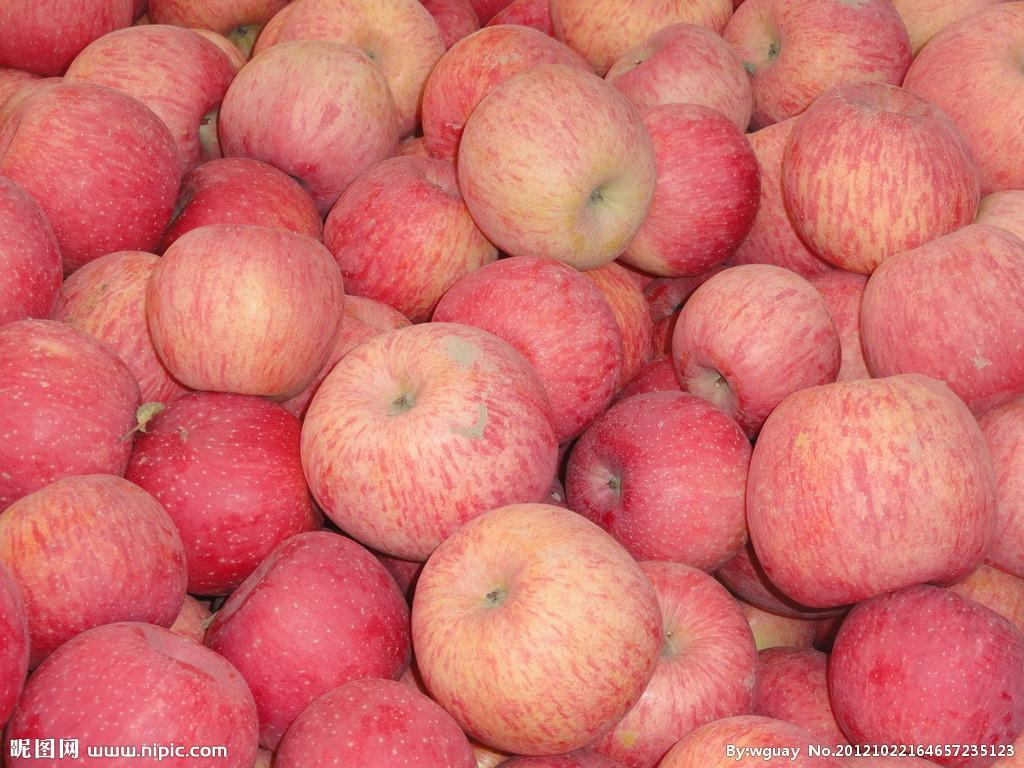apple: (299, 317, 561, 565), (409, 504, 671, 752), (744, 371, 993, 610), (205, 529, 413, 747), (454, 56, 655, 264), (126, 393, 321, 598), (779, 77, 988, 267), (6, 616, 256, 768), (1, 471, 189, 667), (146, 224, 346, 404), (427, 252, 621, 429), (569, 392, 754, 575), (822, 582, 1016, 756), (854, 219, 1020, 411), (1, 82, 179, 259), (670, 261, 846, 430), (604, 97, 762, 279), (213, 37, 393, 193), (319, 152, 499, 308), (1, 314, 146, 502), (719, 1, 923, 122), (270, 683, 479, 766), (1, 2, 136, 77), (1, 176, 66, 328)
